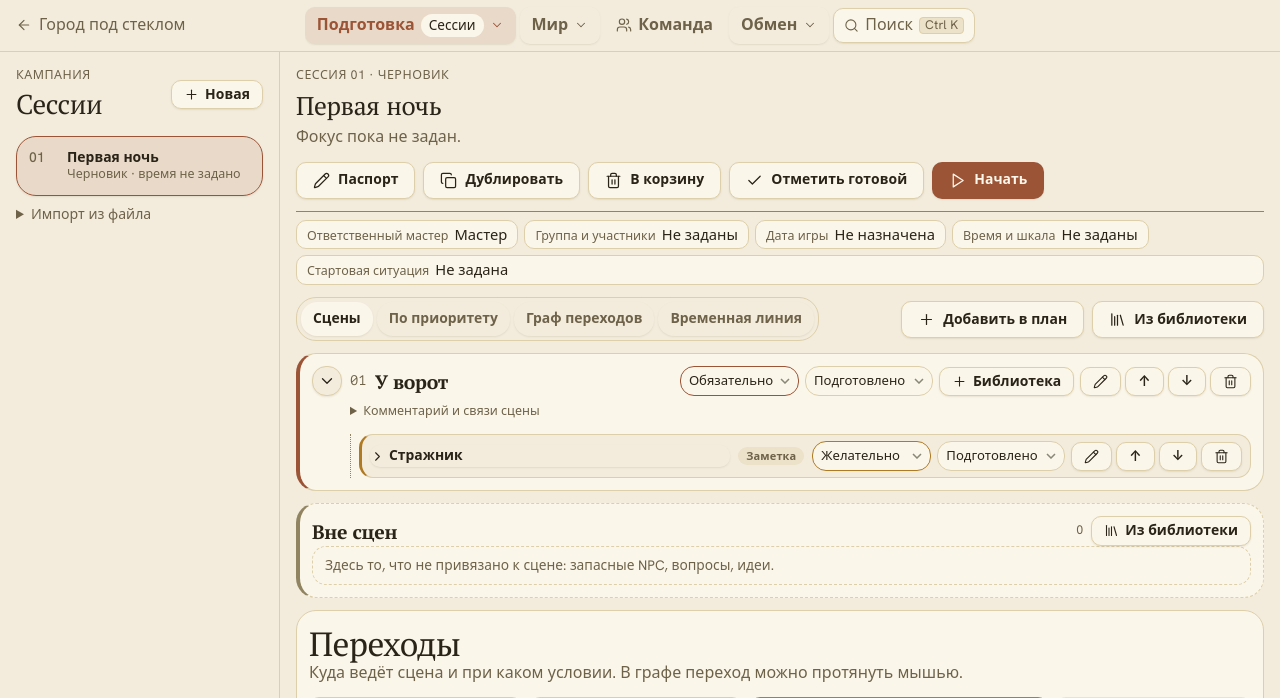
Test: stage 3: plan › keeps priority as a status of scenes and items, and saves notes only on submit
This screenshot has width=1280, height=698.
Step 1. Select "Полезно" in the dropdown named "Приоритет У ворот" → (739, 381), box [680,366,799,396]
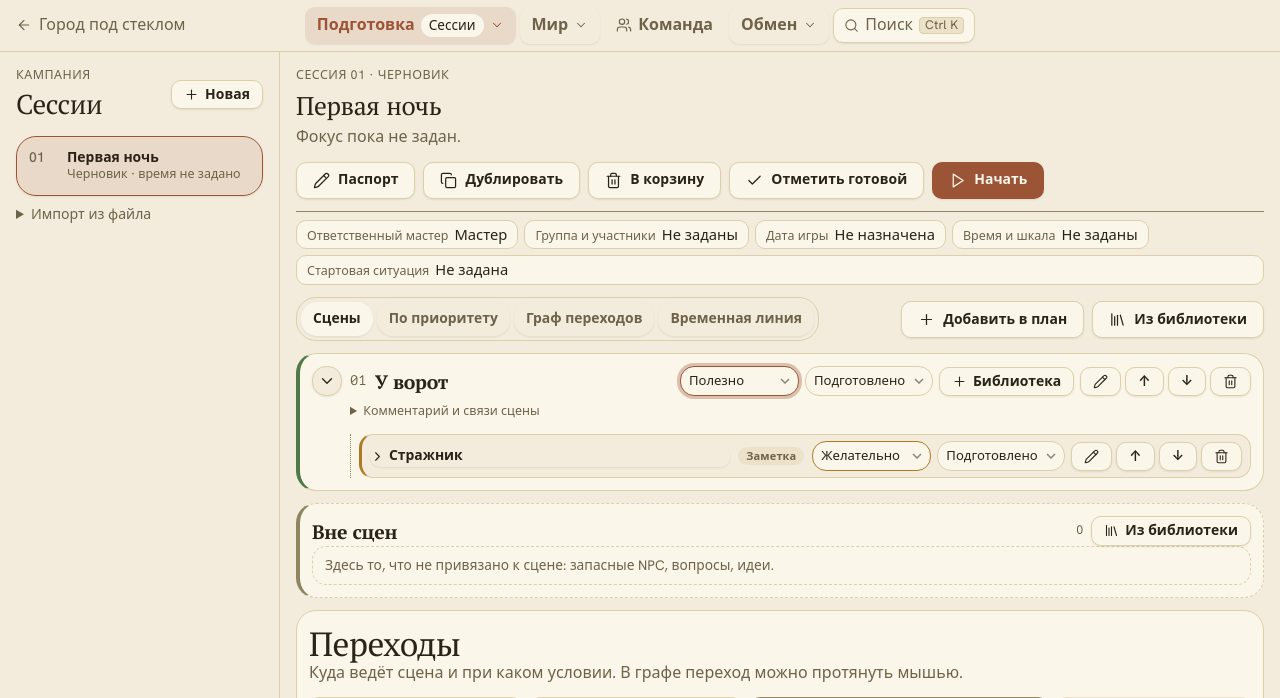
Step 2. Select "Запас" in the dropdown named "Приоритет Стражник" → (872, 456), box [812,441,931,471]
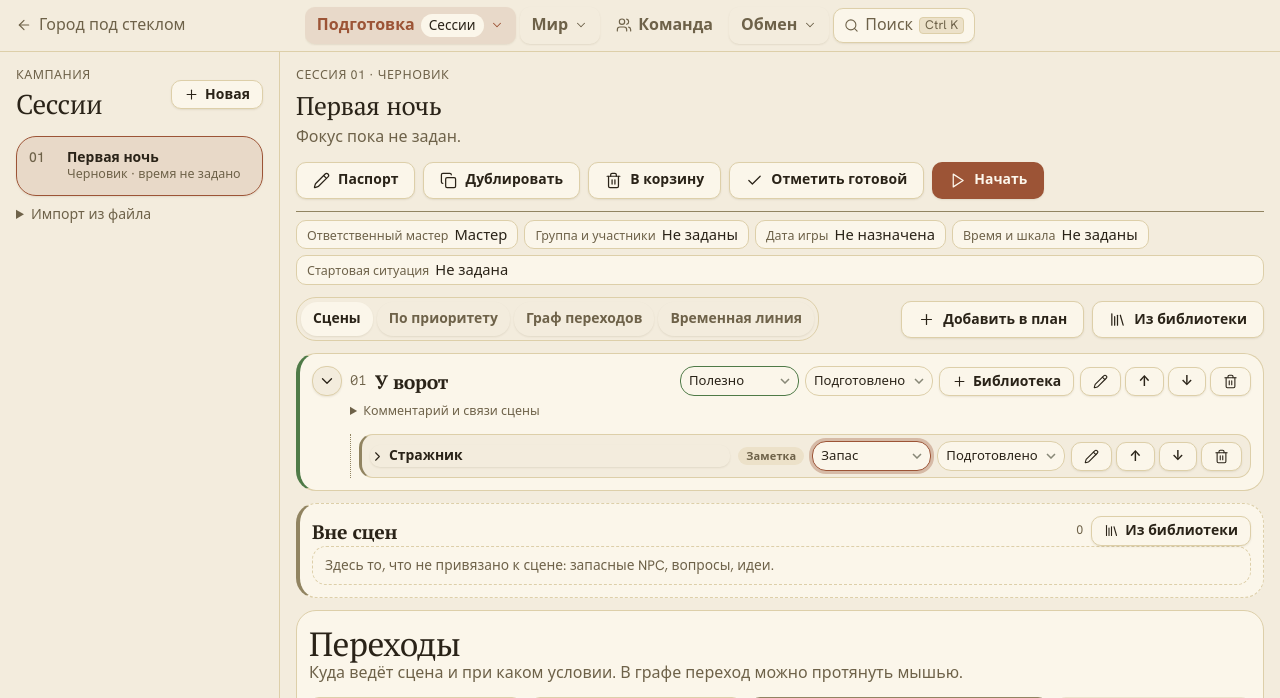
Step 3. Click the heading "Комментарий и связи сцены" → (451, 411), box [363,403,540,419]
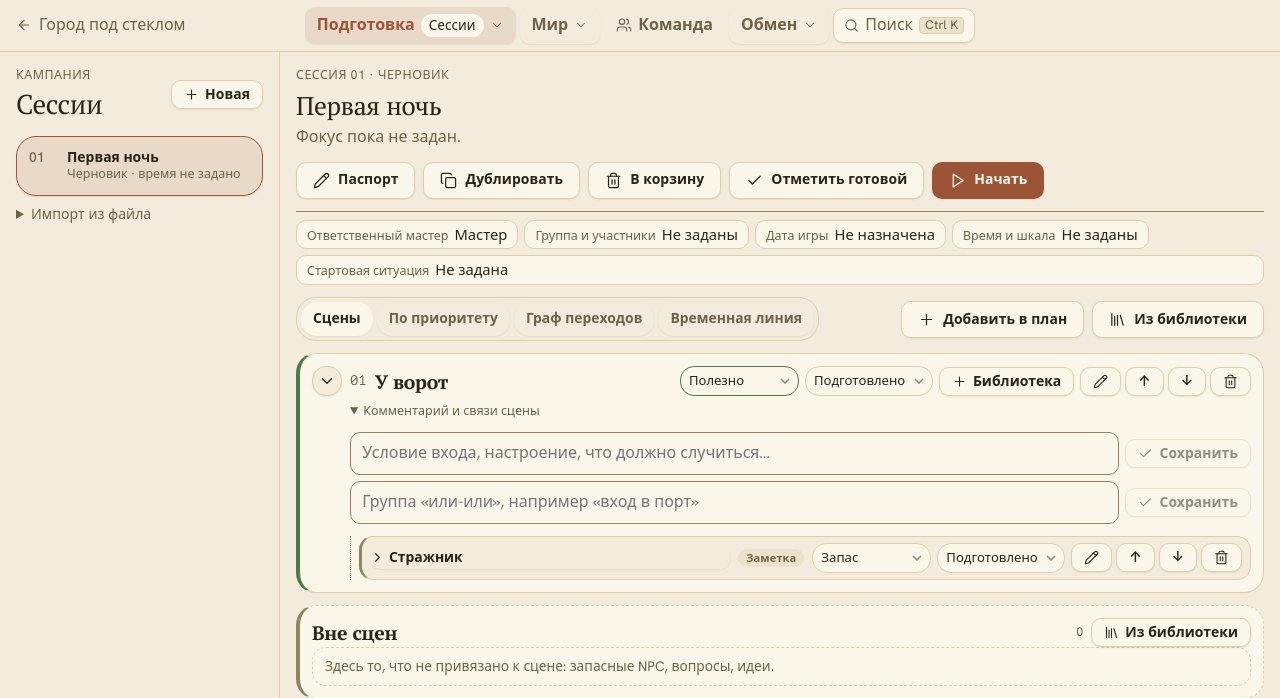
Step 4. Type "Ночь, дождь" into the field named "Комментарий к сцене У ворот" → (735, 454), box [350,432,1120,475]
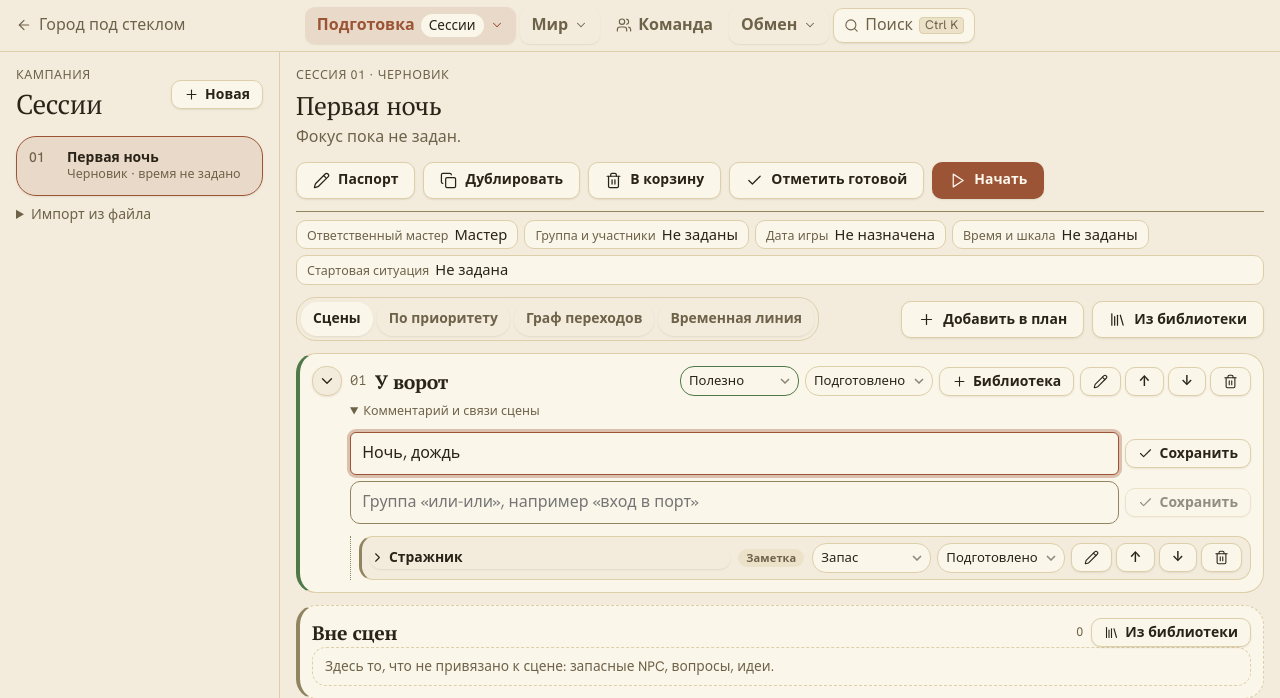
Step 5. Click the button with aria-label "Сохранить: Комментарий к сцене У ворот" → (1188, 454), box [1126,439,1251,468]
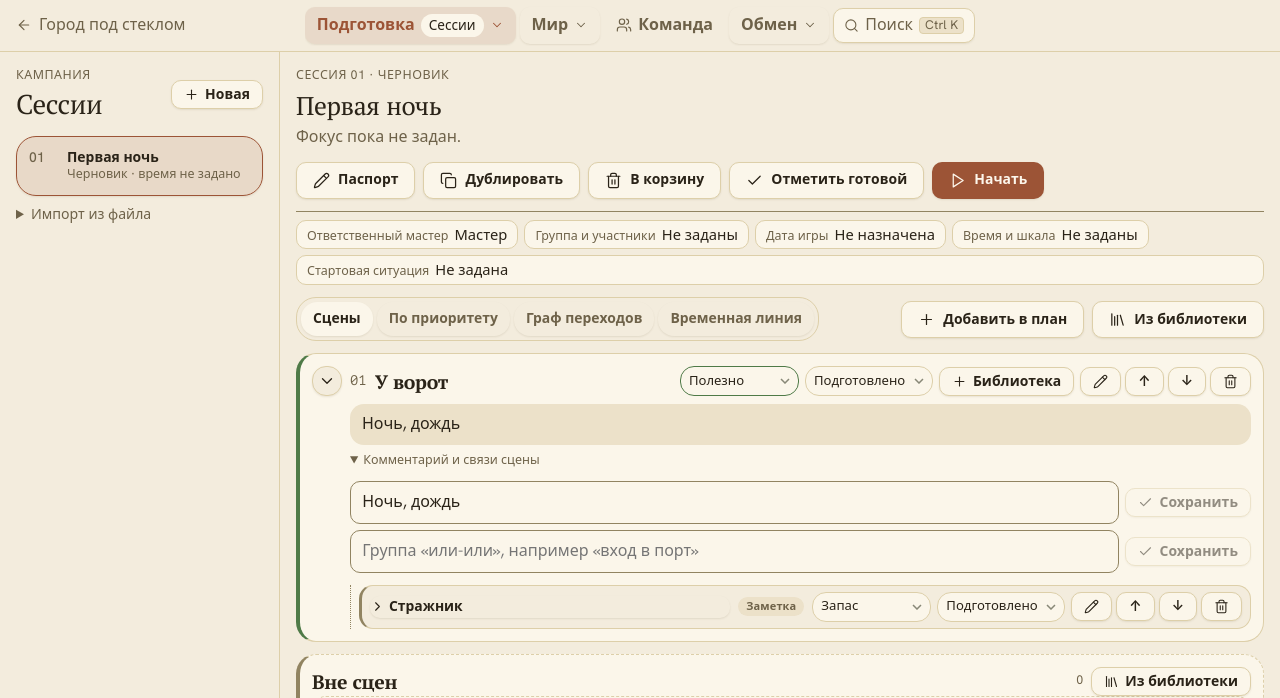
Result: the text "Ночь, дождь" is shown at [350,404,1251,445]
